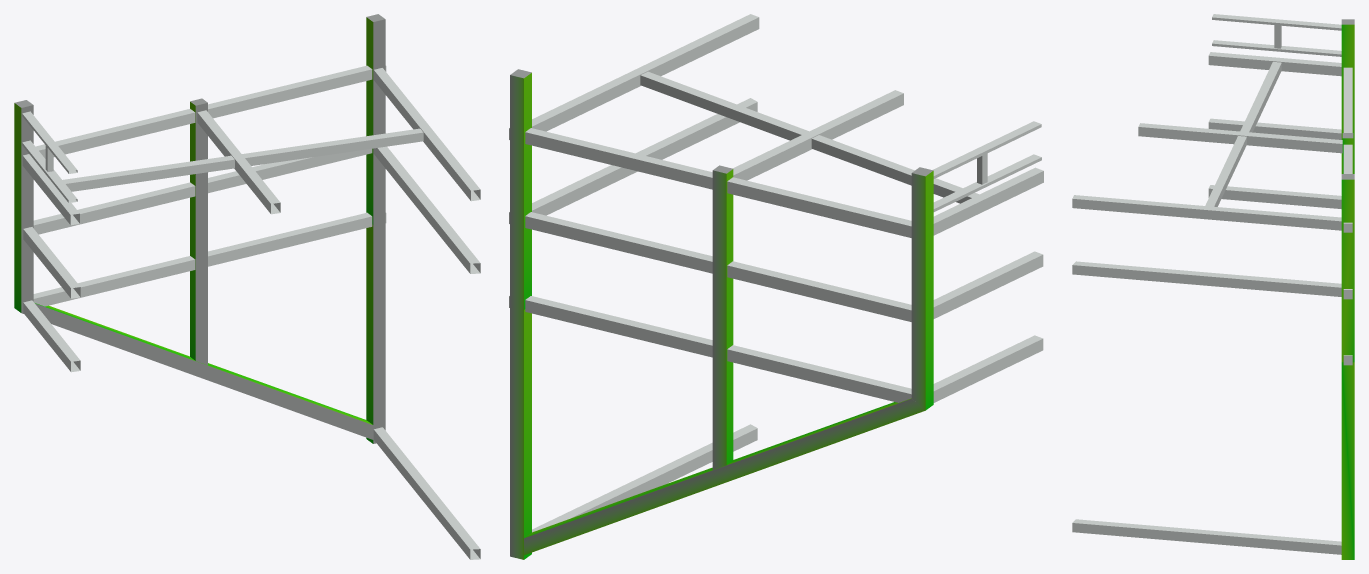
The picture shows the model from 3 angles, left to right: view 1: azimuth 30°, elevation 25°; view 2: azimuth 150°, elevation 25°; view 3: azimuth 270°, elevation 25°; orthographic projection. The views are drawn at different scales.
Parts seen in each view (by area): view 1: G:\FFXIV-MapTools\exports\f1f1\bg\ffxiv\fst_f1\fld\f1f1\bgpa; view 2: G:\FFXIV-MapTools\exports\f1f1\bg\ffxiv\fst_f1\fld\f1f1\bgpa; view 3: G:\FFXIV-MapTools\exports\f1f1\bg\ffxiv\fst_f1\fld\f1f1\bgpa.
Boxes of the visible parts, x1,y1,x2,y2 form: G:\FFXIV-MapTools\exports\f1f1\bg\ffxiv\fst_f1\fld\f1f1\bgpa: (14, 14, 480, 559); G:\FFXIV-MapTools\exports\f1f1\bg\ffxiv\fst_f1\fld\f1f1\bgpa: (509, 14, 1043, 559); G:\FFXIV-MapTools\exports\f1f1\bg\ffxiv\fst_f1\fld\f1f1\bgpa: (1072, 14, 1354, 559).
Bounding box in the file's own units: 11.09 × 11.48 × 7.71.
